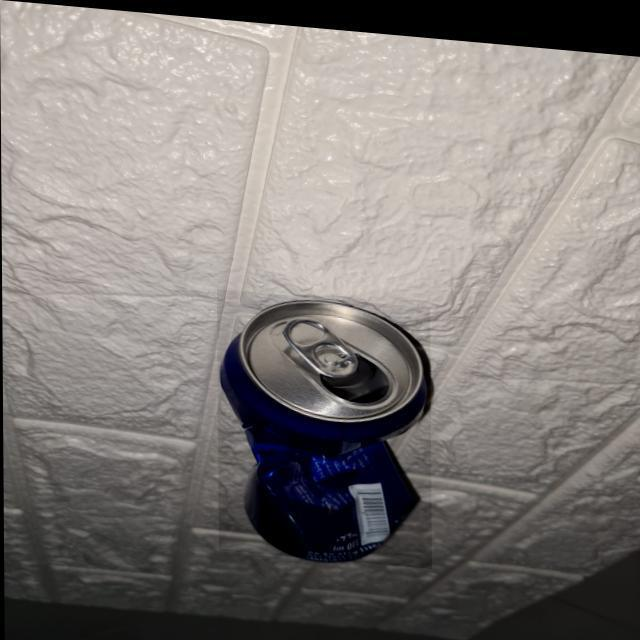trash: (216, 285, 432, 561)
